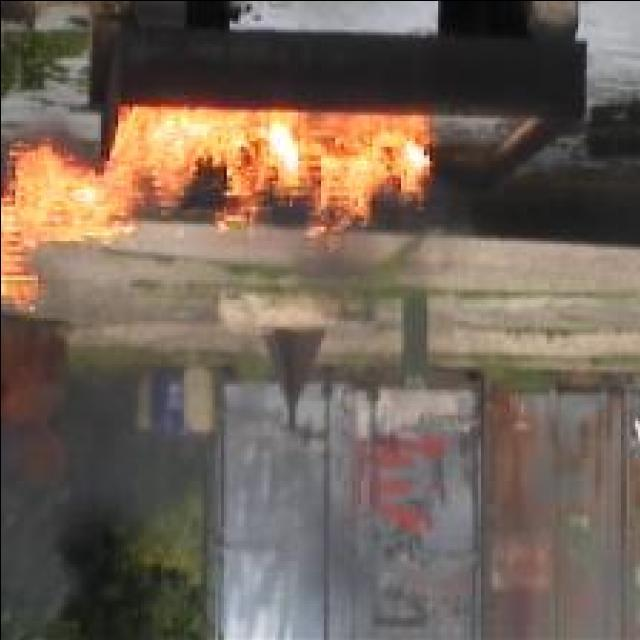Fire: (0, 104, 432, 307)
